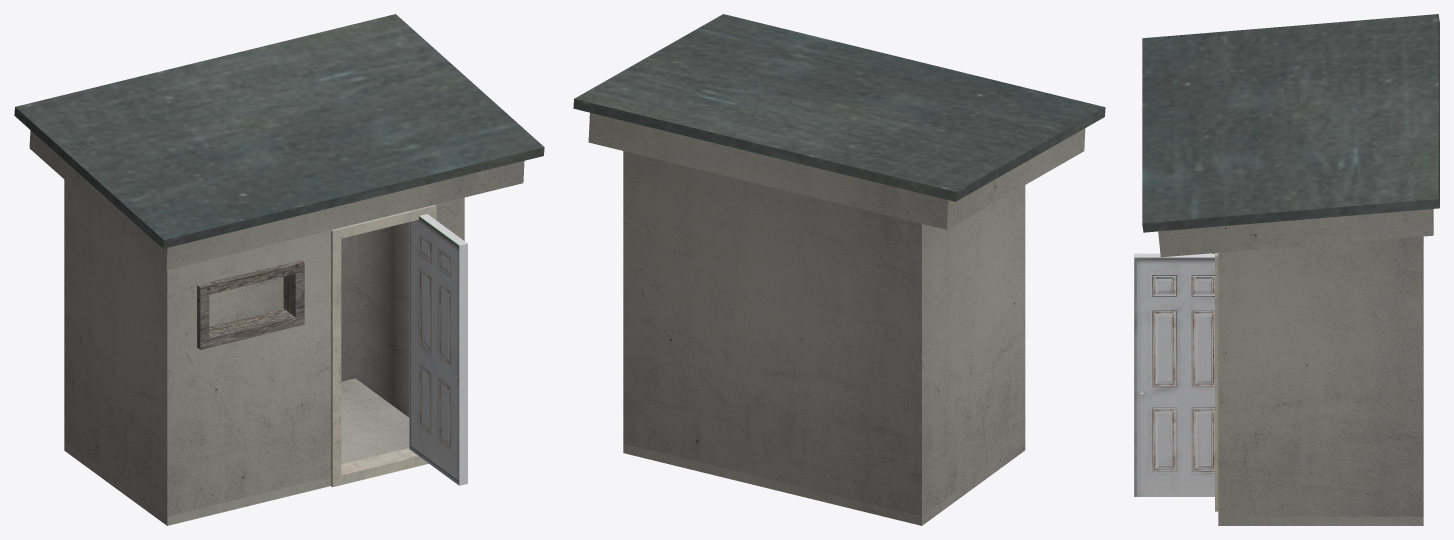
Rendered from small house(close door 집안).FBX.
3 renders of one model, left to right at view 1: azimuth 30°, elevation 25°; view 2: azimuth 150°, elevation 25°; view 3: azimuth 270°, elevation 25°, orthographic.
Parts seen in each view (by area): view 1: Box002, Box003; view 2: Box002; view 3: Box002, Box003.
Part boxes in pixels (bbox=[...]): Box002: bbox=[14, 14, 544, 525]; Box003: bbox=[409, 214, 467, 485]; Box002: bbox=[573, 14, 1105, 525]; Box002: bbox=[1142, 14, 1439, 525]; Box003: bbox=[1134, 253, 1214, 496].
Bounding box in the file's own units: 128 × 112 × 89.38.
